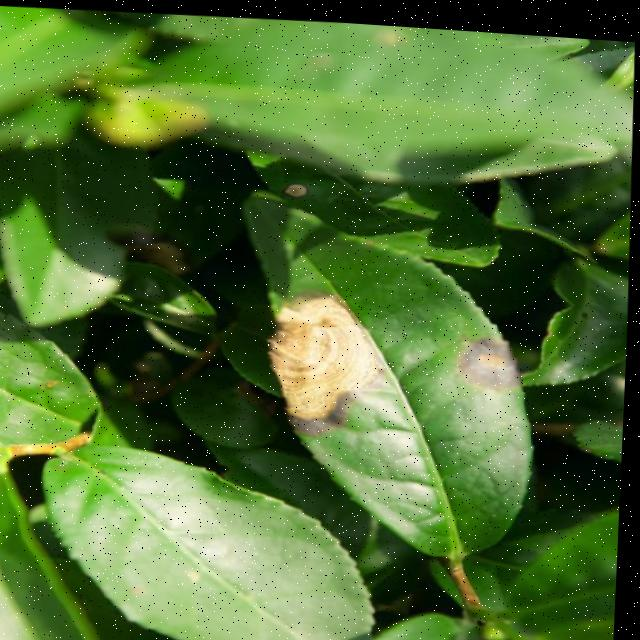Tea cloud leaf blight: (270, 286, 408, 434)
